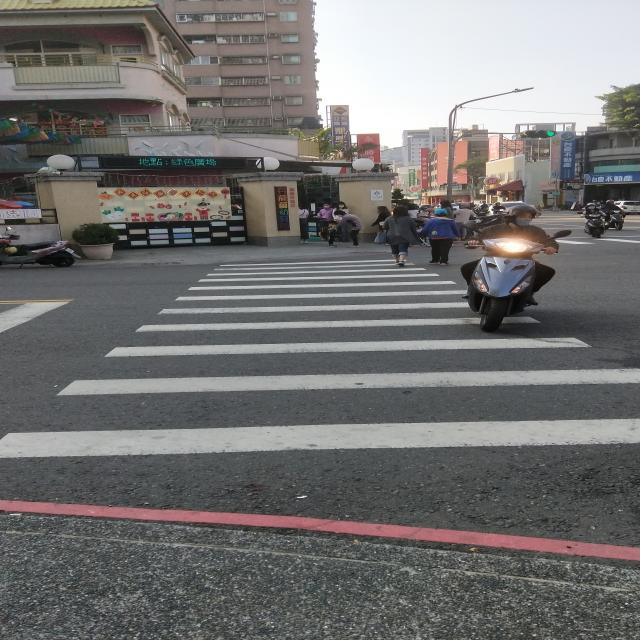person: (464, 205, 558, 255), (382, 206, 420, 266), (420, 209, 460, 265), (333, 210, 364, 246), (531, 262, 556, 292), (460, 260, 480, 284)
zebra crossing: (0, 260, 640, 462)
